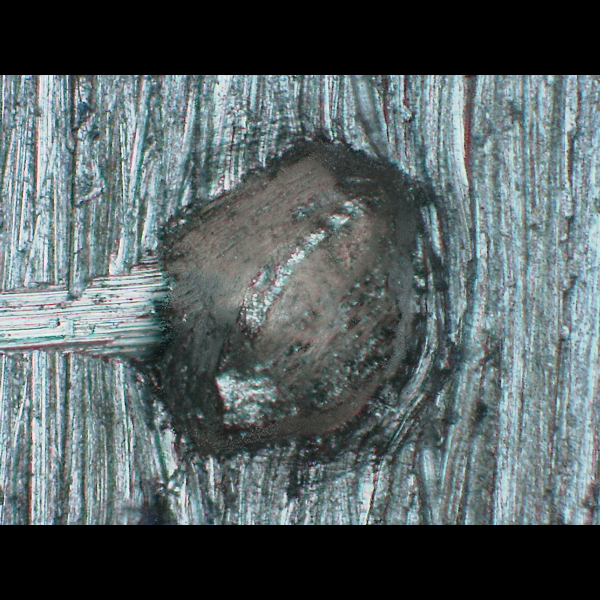d: (96, 115, 464, 485)
